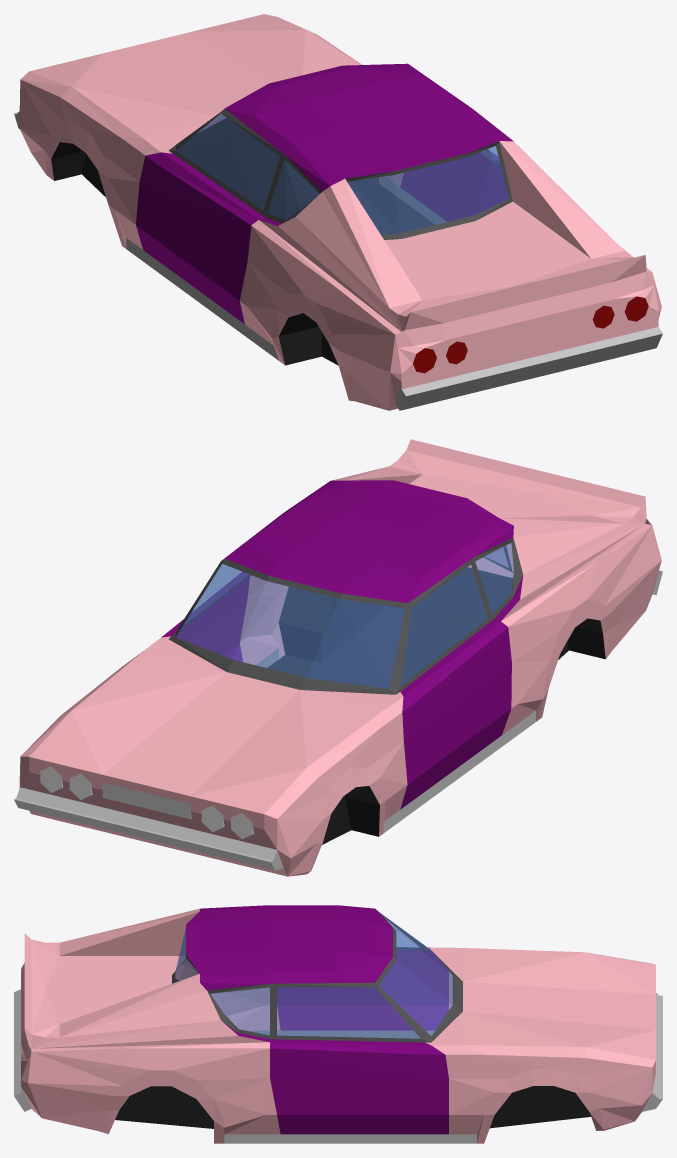
The model's file is Torpedo.fbx.
The picture shows the model from 3 angles, top to bottom: view 1: azimuth 30°, elevation 25°; view 2: azimuth 150°, elevation 25°; view 3: azimuth 270°, elevation 25°; orthographic projection. The views are drawn at different scales.
Parts seen in each view (by area): view 1: _(Loose Entity); view 2: _(Loose Entity); view 3: _(Loose Entity).
Boxes of the visible parts, <box> form: _(Loose Entity): <box>14,14,662,410</box>; _(Loose Entity): <box>14,439,662,876</box>; _(Loose Entity): <box>14,905,662,1143</box>.
Size of the model in its own units: 188 by 124 by 470.
